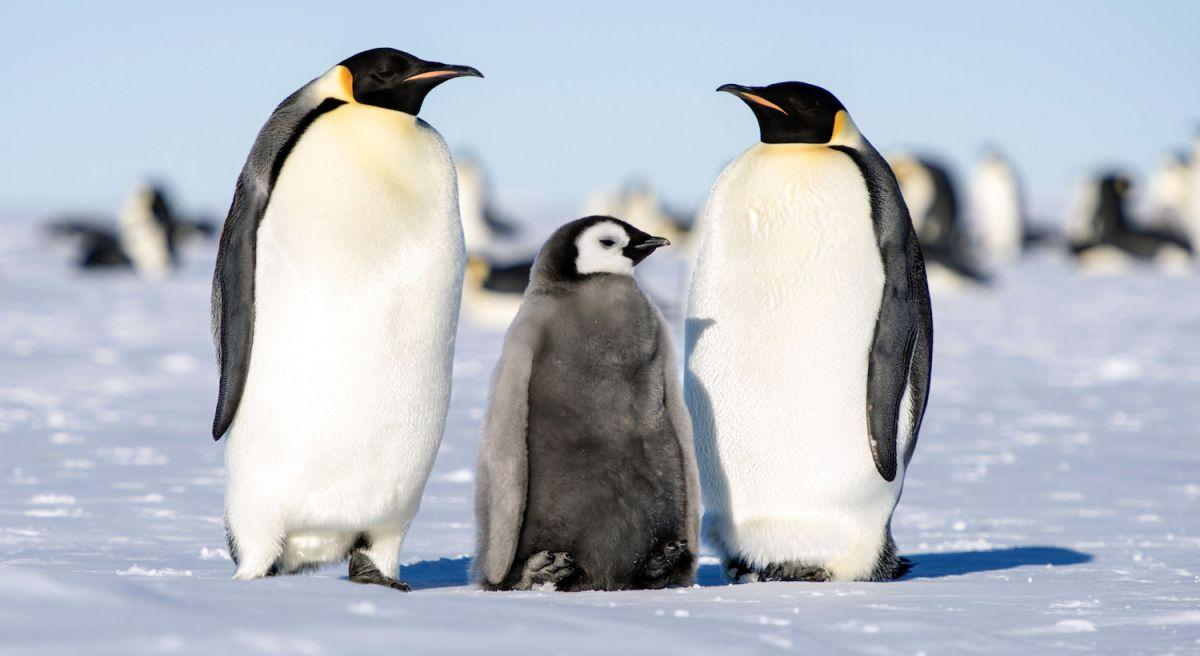emporer: (181, 31, 511, 602), (649, 53, 969, 628)
